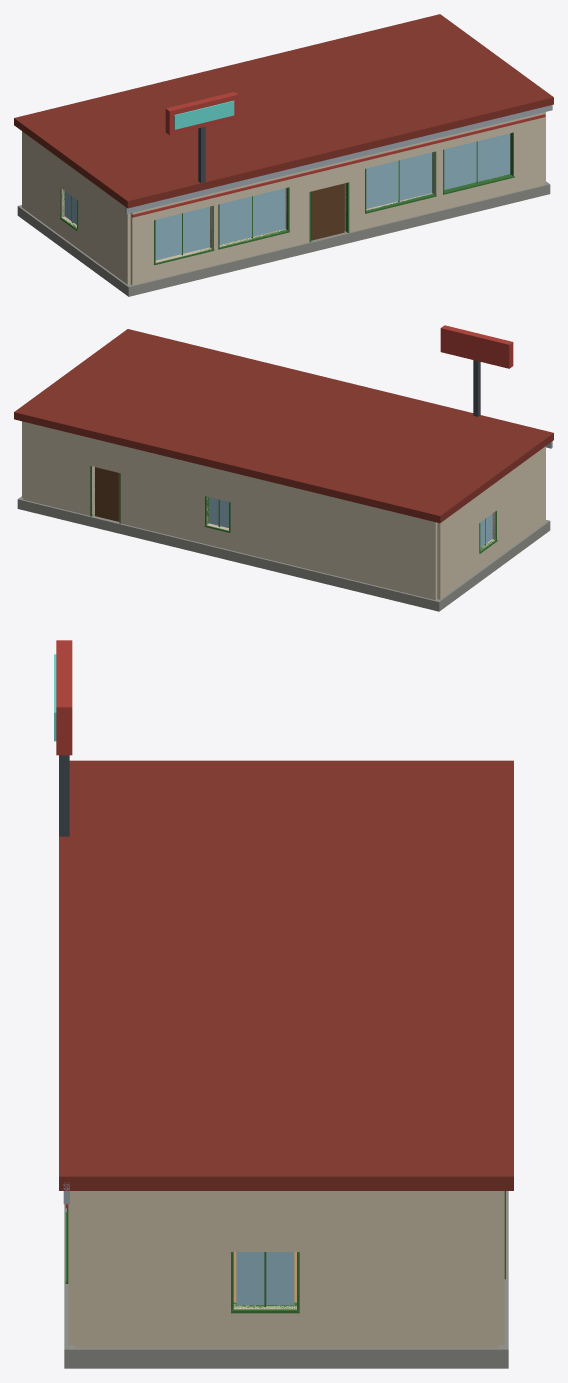
Rendered from GB_Diner_01.glb.
The picture shows the model from 3 angles, top to bottom: view 1: azimuth 30°, elevation 25°; view 2: azimuth 150°, elevation 25°; view 3: azimuth 270°, elevation 25°; orthographic projection. The views are drawn at different scales.
Visible parts, largest first — view 1: GB_Diner_01; view 2: GB_Diner_01; view 3: GB_Diner_01.
Boxes of the visible parts, bbox=[...] form: GB_Diner_01: bbox=[14, 14, 553, 296]; GB_Diner_01: bbox=[14, 325, 553, 611]; GB_Diner_01: bbox=[54, 640, 513, 1368].
Size of the model in its own units: 18.6 by 7.4 by 8.7.
1 material, 1 textured.
